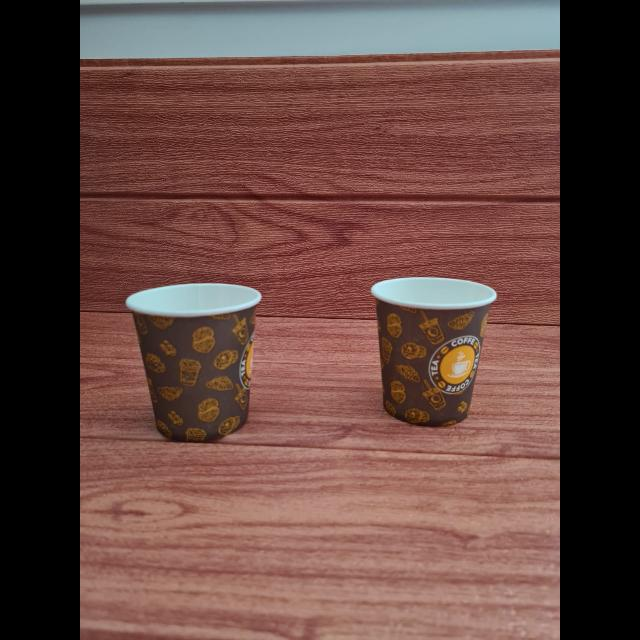trash: (123, 282, 261, 443), (371, 274, 499, 430)
